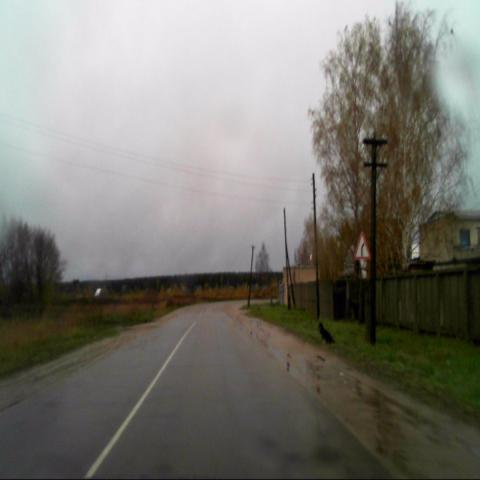1_11: (354, 231, 371, 259)
